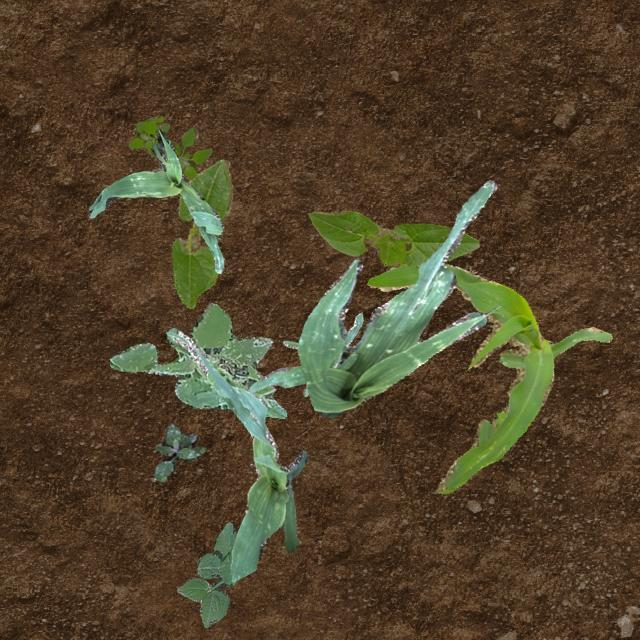crop: (366, 262, 612, 492), (296, 180, 496, 416), (166, 328, 306, 580), (86, 130, 225, 272), (308, 208, 478, 266), (246, 312, 362, 396), (170, 158, 232, 308)
weed: (108, 302, 286, 418), (176, 522, 234, 626), (127, 115, 210, 178), (152, 424, 204, 481)
